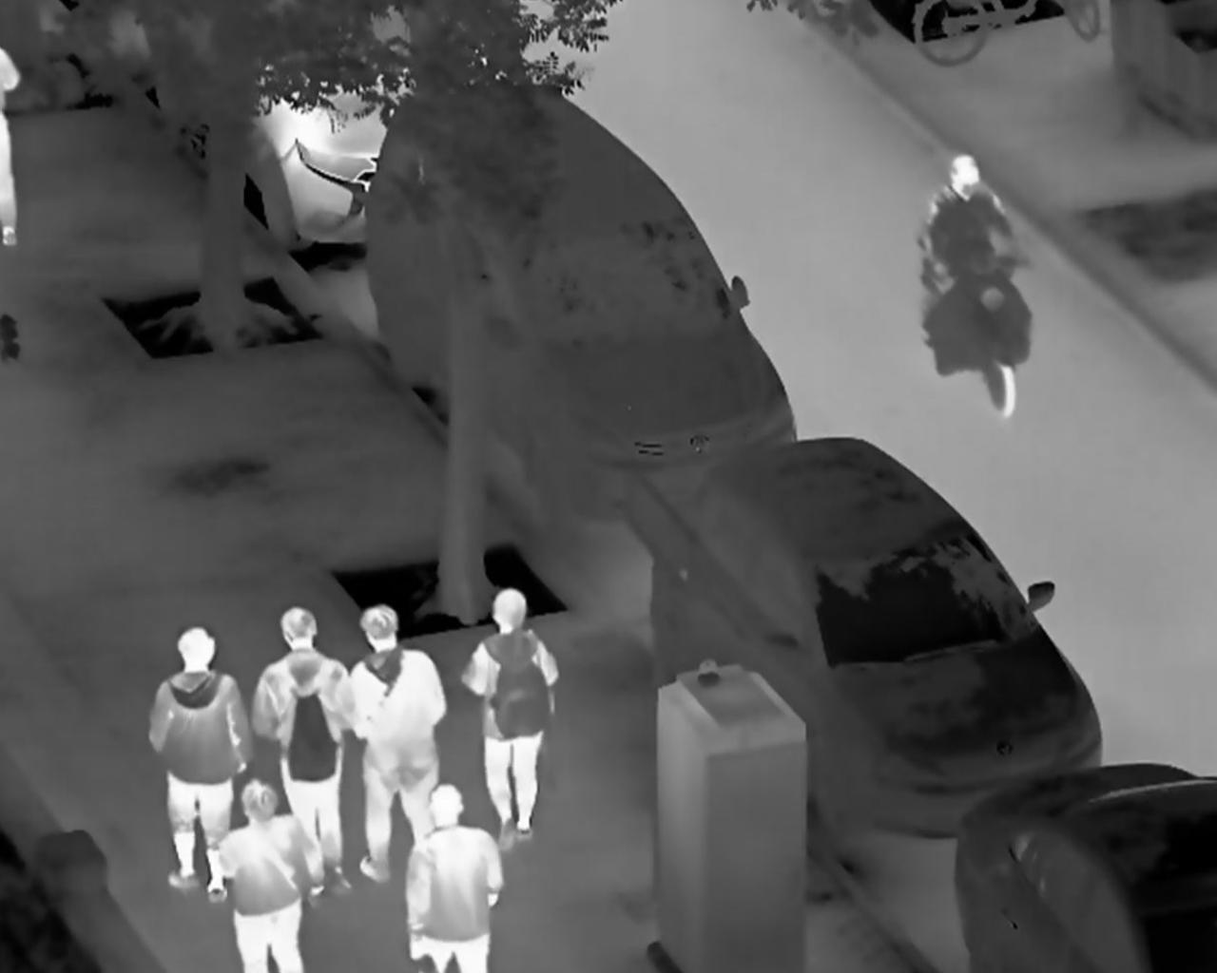person: (337, 605, 453, 881), (251, 605, 357, 902), (146, 624, 255, 903), (458, 586, 562, 853), (215, 777, 327, 973), (403, 784, 507, 973), (919, 153, 1024, 306)
